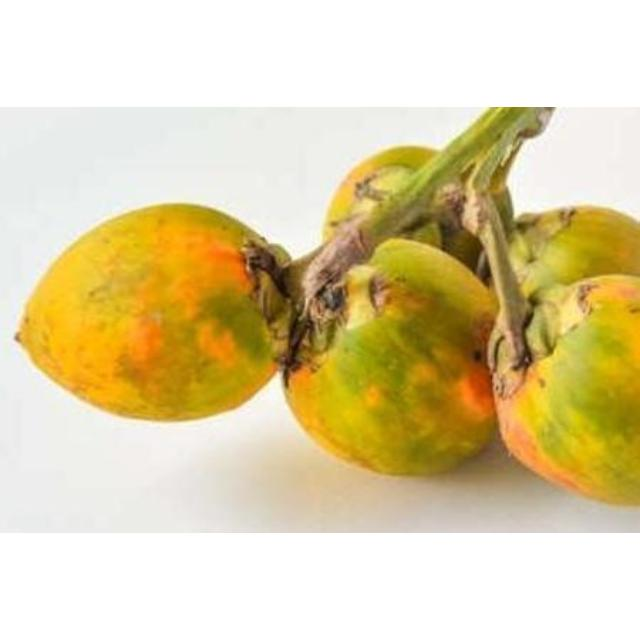good: (18, 205, 290, 419), (286, 235, 506, 475), (496, 278, 640, 508), (501, 207, 639, 301), (328, 146, 440, 238)
